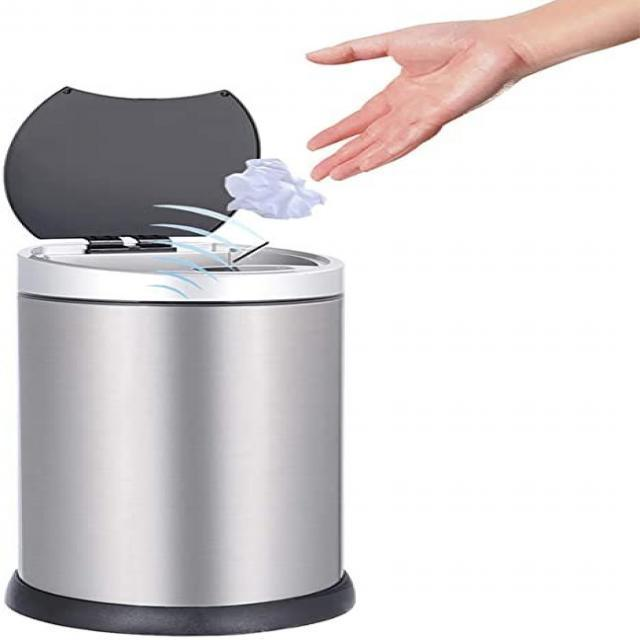Dumpster: (10, 242, 369, 634)
